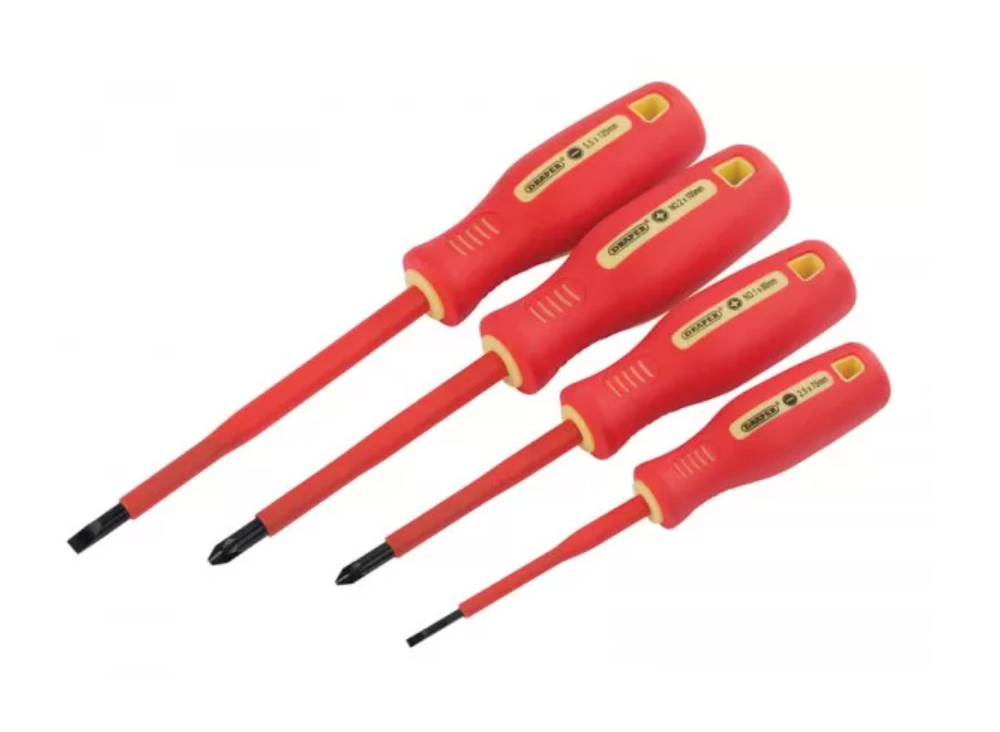screwdriver: (66, 77, 701, 552), (203, 146, 792, 568), (332, 242, 857, 588), (403, 353, 894, 646)
